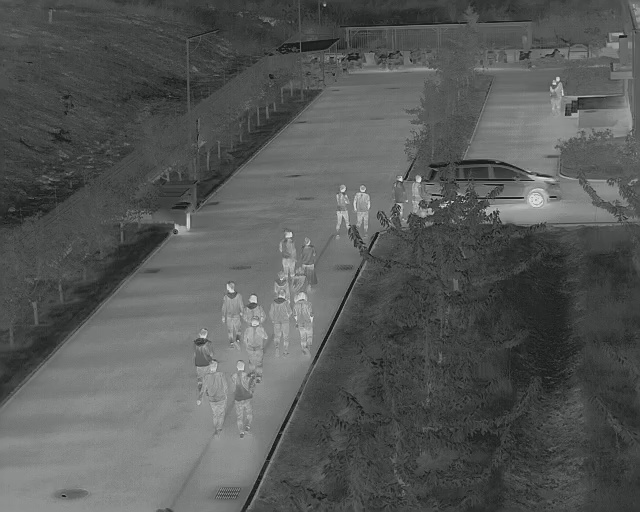person: (195, 359, 228, 440), (230, 359, 256, 439), (220, 279, 243, 352), (244, 315, 268, 383), (269, 288, 291, 358), (292, 291, 315, 357), (192, 327, 216, 374), (278, 228, 297, 279), (333, 182, 350, 239), (299, 236, 318, 285), (353, 184, 372, 229), (392, 173, 409, 206), (548, 78, 561, 111)
vehicle: (419, 159, 564, 210)
